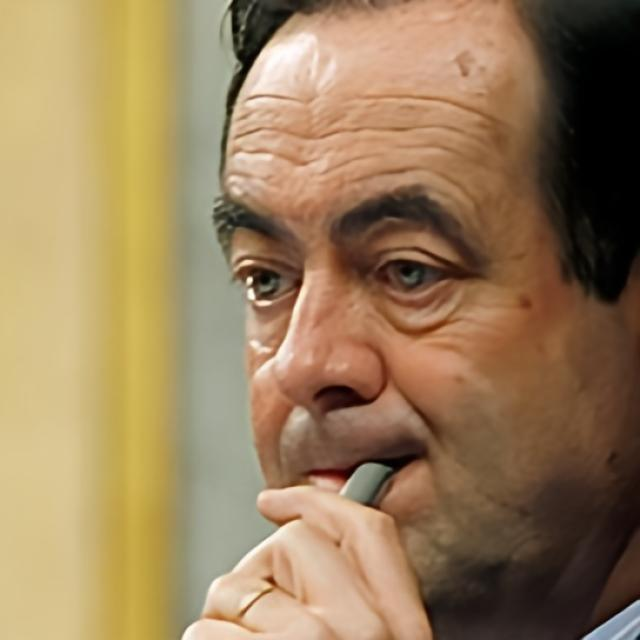sad: (208, 0, 640, 628)
